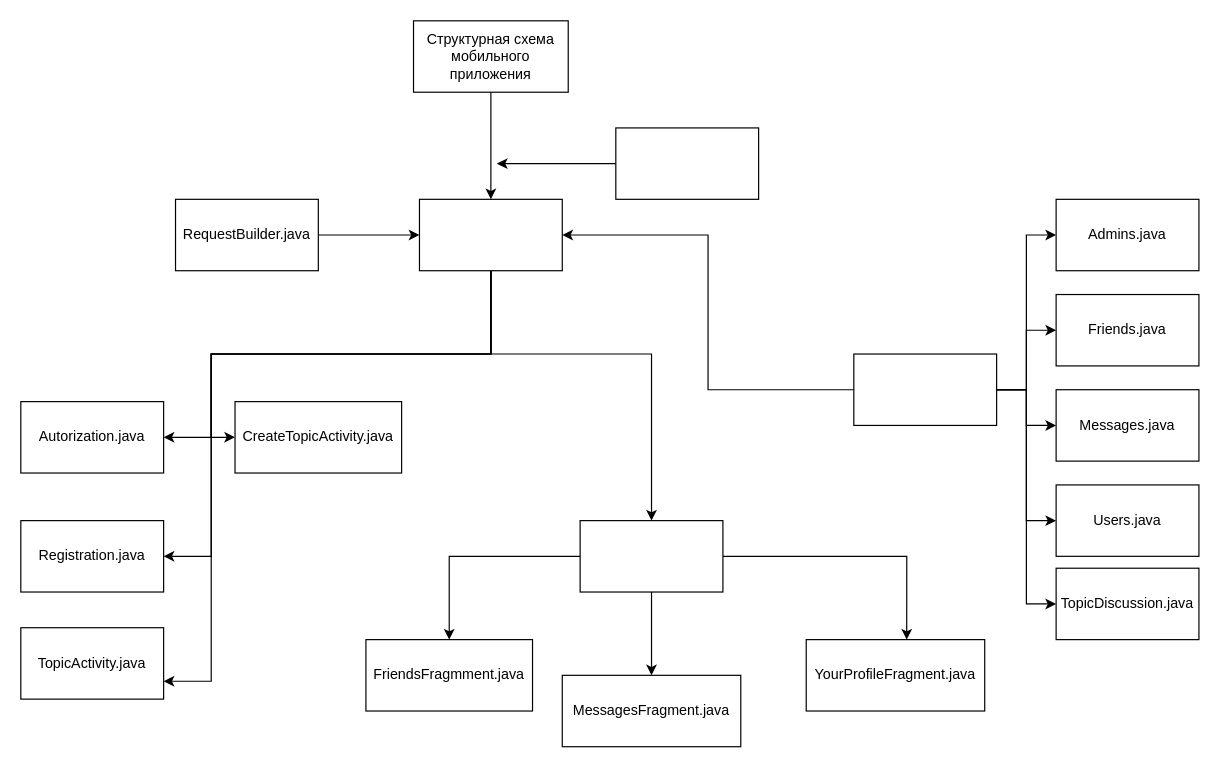
Some shapes in this 1220 by 768 pixel diagram are drawn without their labels. The centre of each missing label's shape, as x and y in pixels:
"AndroidManifest.xml" goes at (687,163).
"ApiInterface.java" goes at (490,234).
"MainActivity.java" goes at (651,555).
"Модели" goes at (925,389).
